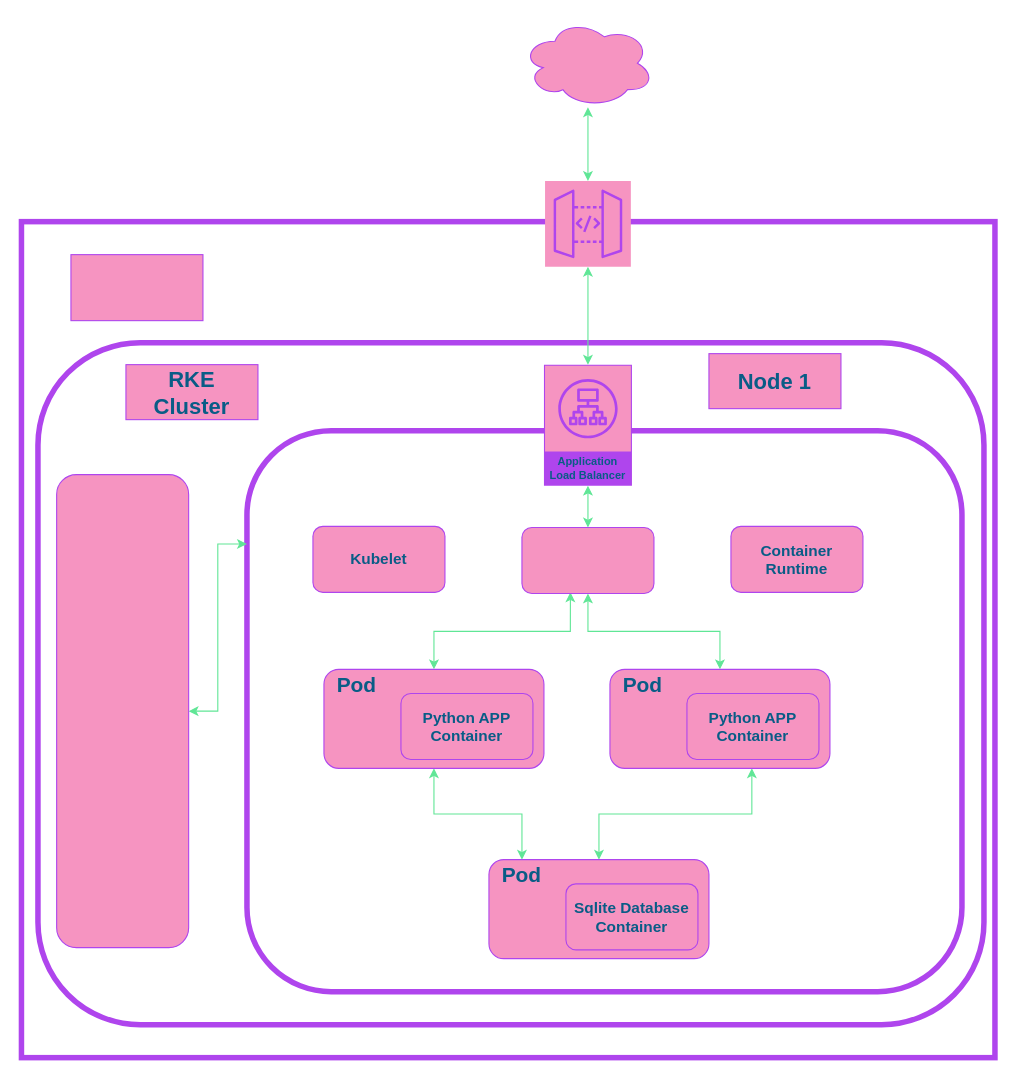
The diagram is 1016 pixels wide and 1079 high, and some of its shapes have lost their labels. Each missing label, with the centre of its shape:
Kube-Proxy: pixel 587 559
Kubernets Master: pixel 122 711
Open SUSE: pixel 136 287
USER: pixel 587 62
